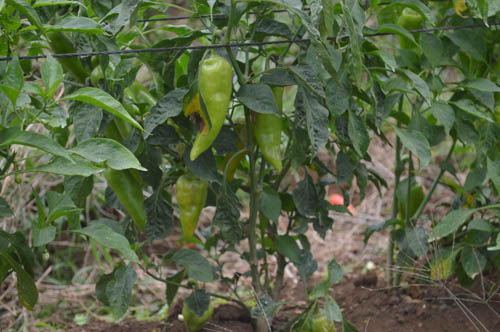ChiliPepper: (191, 57, 232, 162), (254, 80, 282, 168), (109, 161, 146, 223), (173, 175, 207, 240)
